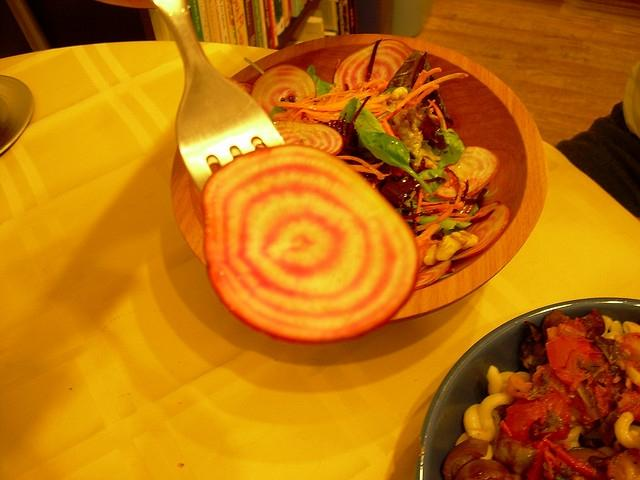tomato: (545, 336, 607, 392), (504, 392, 572, 442)
